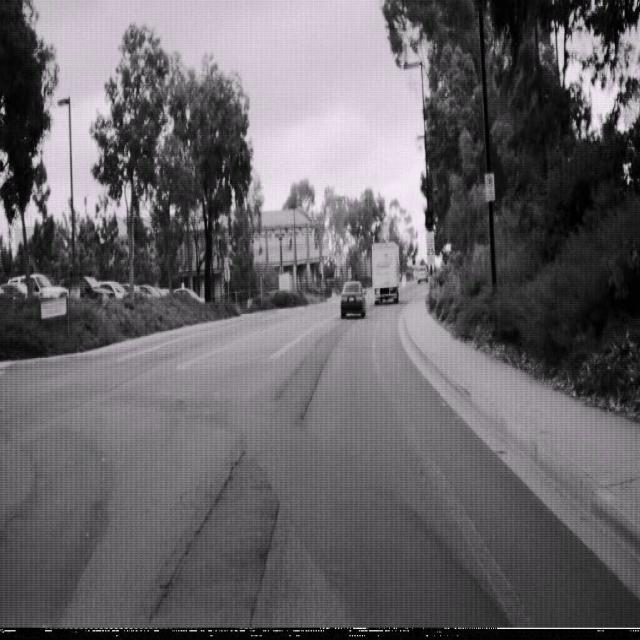speedLimit25: (425, 229, 435, 264)
